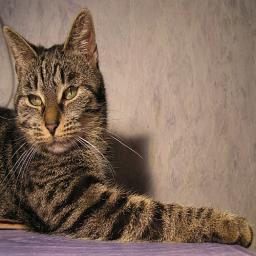catnose: (44, 121, 60, 136)
